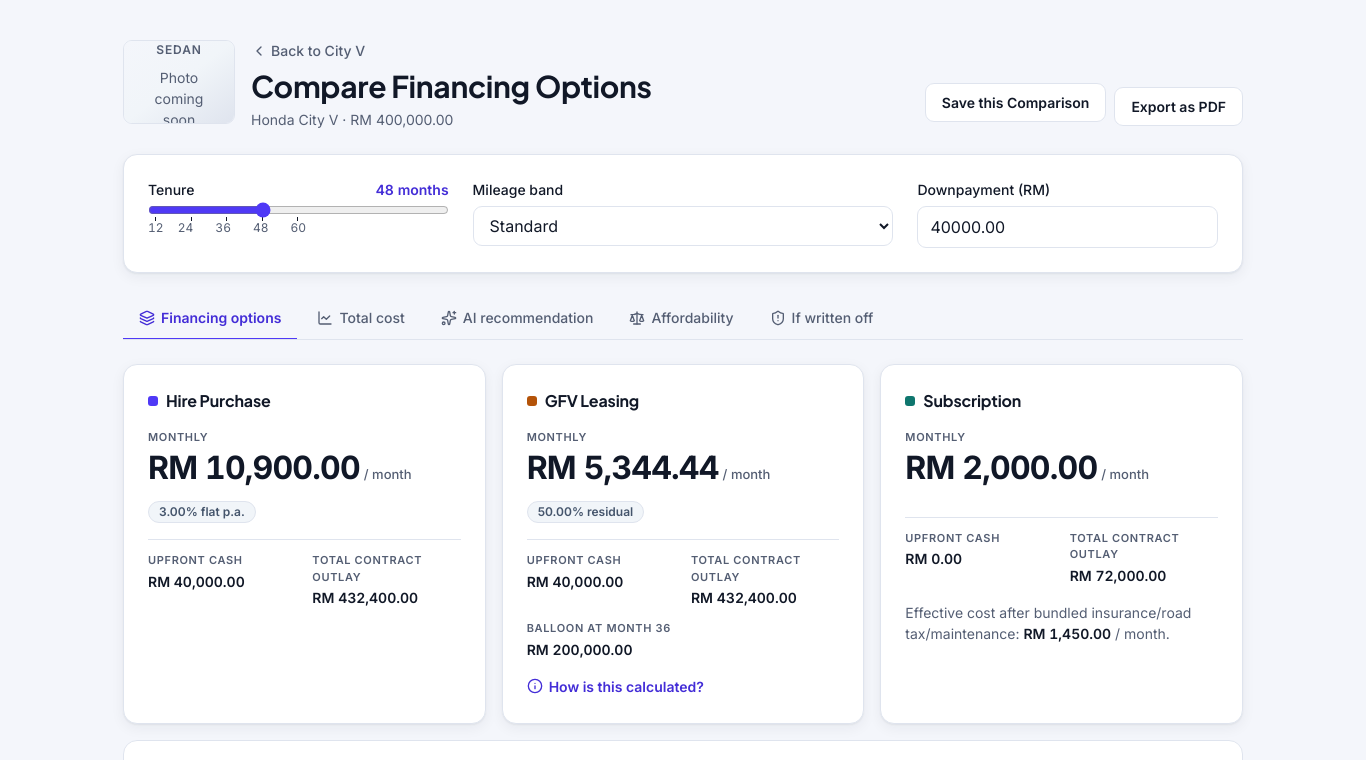
Test case: ComparisonPage › TCO Breakdown & Depreciation tab › shows the exact UC006 fallback message when model_degraded is true
What coordinates should you click on to do the following:
click the tab "Total cost"
I would click on:
 (361, 318)
Its box is [301,297,421,340].
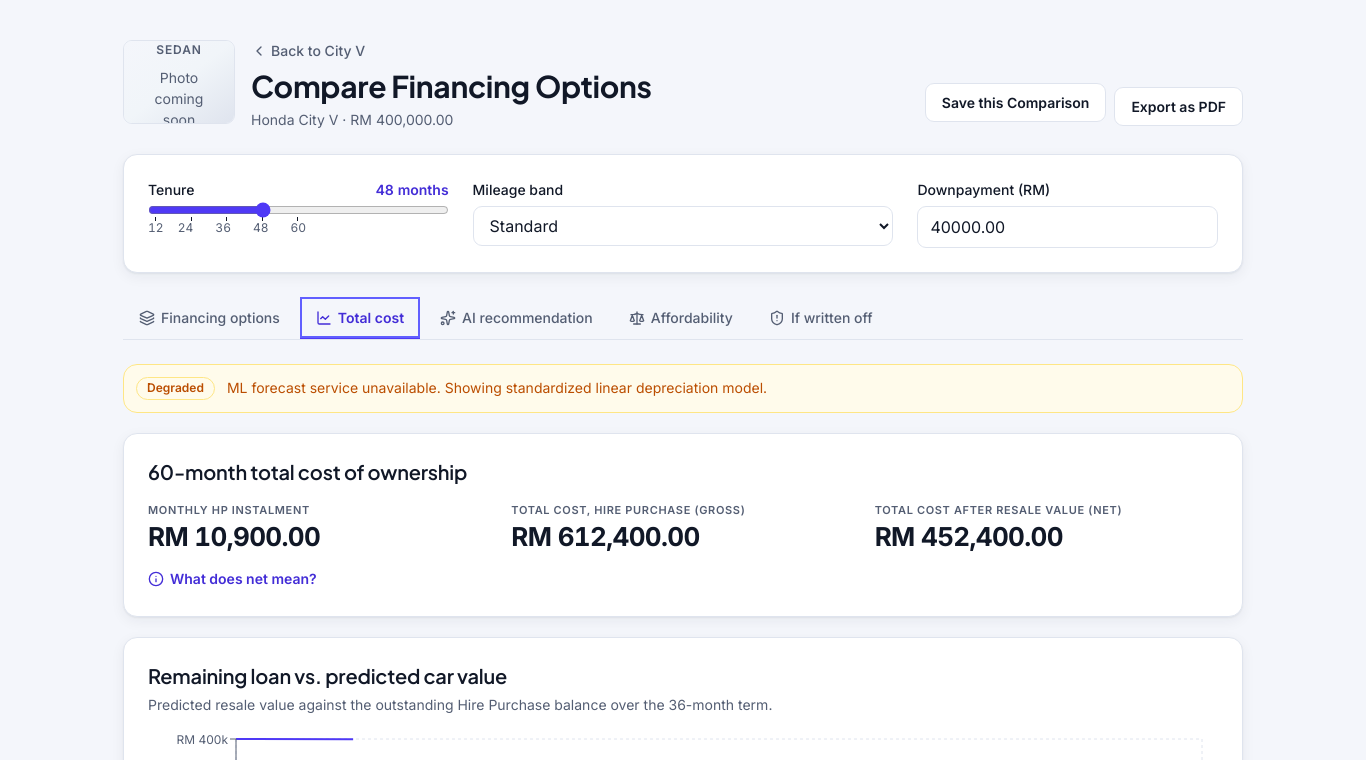
Expected: the text "ML forecast service unavailable. Showing standardized linear depreciation model." is shown, [227,377,767,398]
